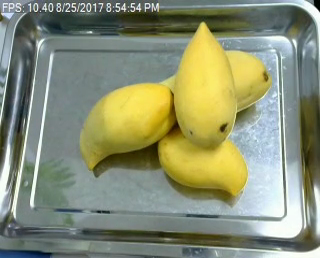Mango: (80, 80, 177, 172), (171, 20, 238, 146), (159, 49, 270, 121), (158, 127, 250, 197)
